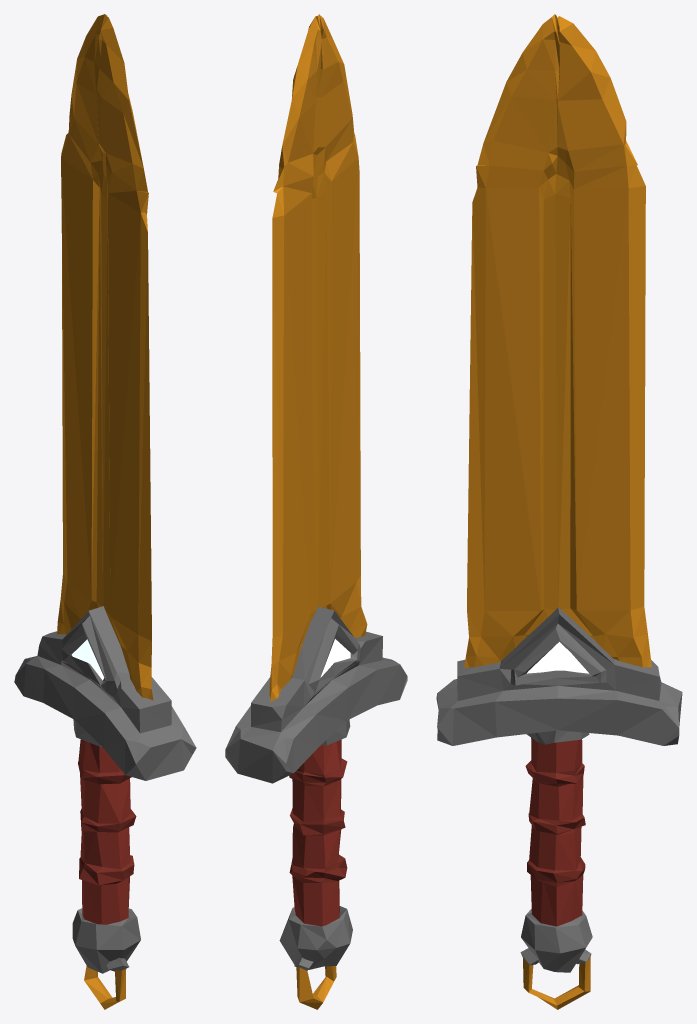
File: SFFA_Weapon_Knife_Gold_004.fbx
3 renders of one model, left to right at view 1: azimuth 30°, elevation 25°; view 2: azimuth 150°, elevation 25°; view 3: azimuth 270°, elevation 25°, orthographic.
Visible parts, largest first — view 1: SFFA_Weapon_Knife_Gold_004; view 2: SFFA_Weapon_Knife_Gold_004; view 3: SFFA_Weapon_Knife_Gold_004.
Part boxes in pixels (x1,y1,x2,y2): SFFA_Weapon_Knife_Gold_004: [14, 14, 196, 1009]; SFFA_Weapon_Knife_Gold_004: [225, 14, 407, 1009]; SFFA_Weapon_Knife_Gold_004: [436, 14, 682, 1009].
Size of the model in its own units: 2.99 by 43.79 by 9.81.
